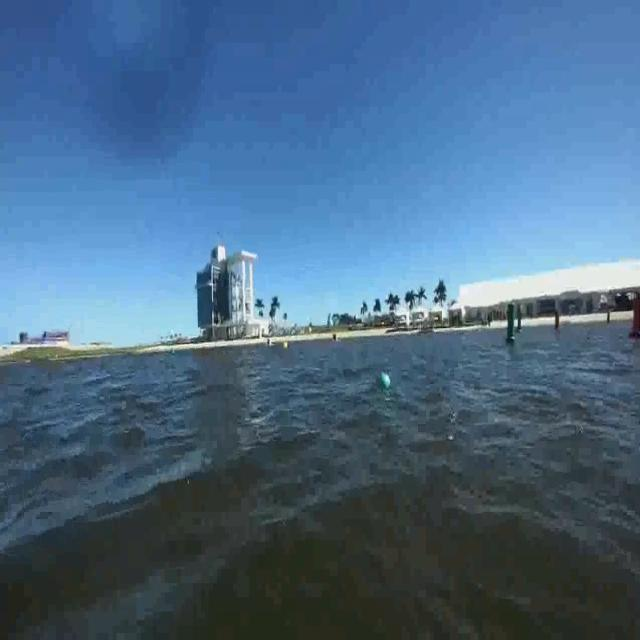green-buoy: (376, 370, 392, 393)
green-column-buoy: (504, 303, 517, 346)
red-column-buoy: (629, 297, 640, 339), (555, 310, 562, 332)
yellow-buoy: (283, 342, 289, 352)
